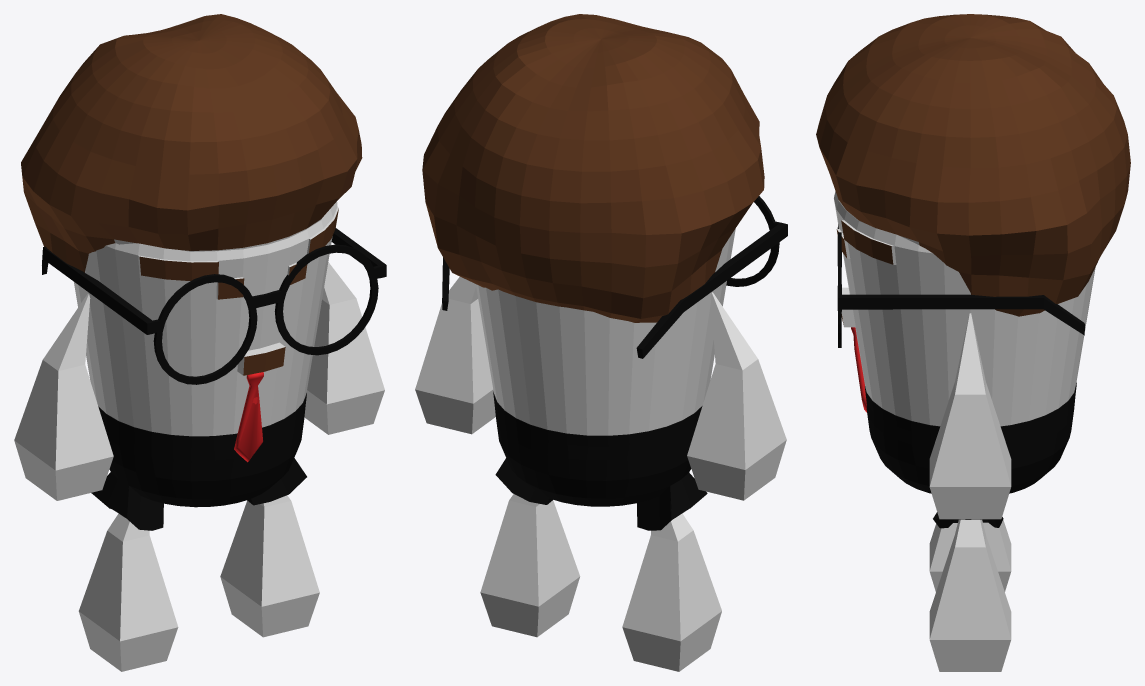
Rendered from hero.fbx.
The picture shows the model from 3 angles, left to right: view 1: azimuth 30°, elevation 25°; view 2: azimuth 150°, elevation 25°; view 3: azimuth 270°, elevation 25°; orthographic projection.
Visible parts, largest first — view 1: тело, правая рука, правая нога, левая нога, левая рука; view 2: тело, правая рука, правая нога, левая нога, левая рука; view 3: тело, левая рука, левая нога, правая нога.
Boxes of the visible parts, bbox=[...] form: тело: bbox=[21, 14, 386, 530]; правая рука: bbox=[14, 293, 113, 500]; правая нога: bbox=[78, 513, 178, 671]; левая нога: bbox=[220, 495, 319, 637]; левая рука: bbox=[304, 262, 384, 434]; тело: bbox=[422, 14, 787, 530]; правая рука: bbox=[687, 292, 786, 500]; правая нога: bbox=[622, 513, 721, 671]; левая нога: bbox=[480, 494, 580, 637]; левая рука: bbox=[415, 276, 495, 434]; тело: bbox=[816, 14, 1130, 528]; левая рука: bbox=[929, 313, 1011, 519]; левая нога: bbox=[929, 519, 1011, 671]; правая нога: bbox=[929, 520, 1011, 591].
Bounding box in the file's own units: 372 × 646 × 312.
